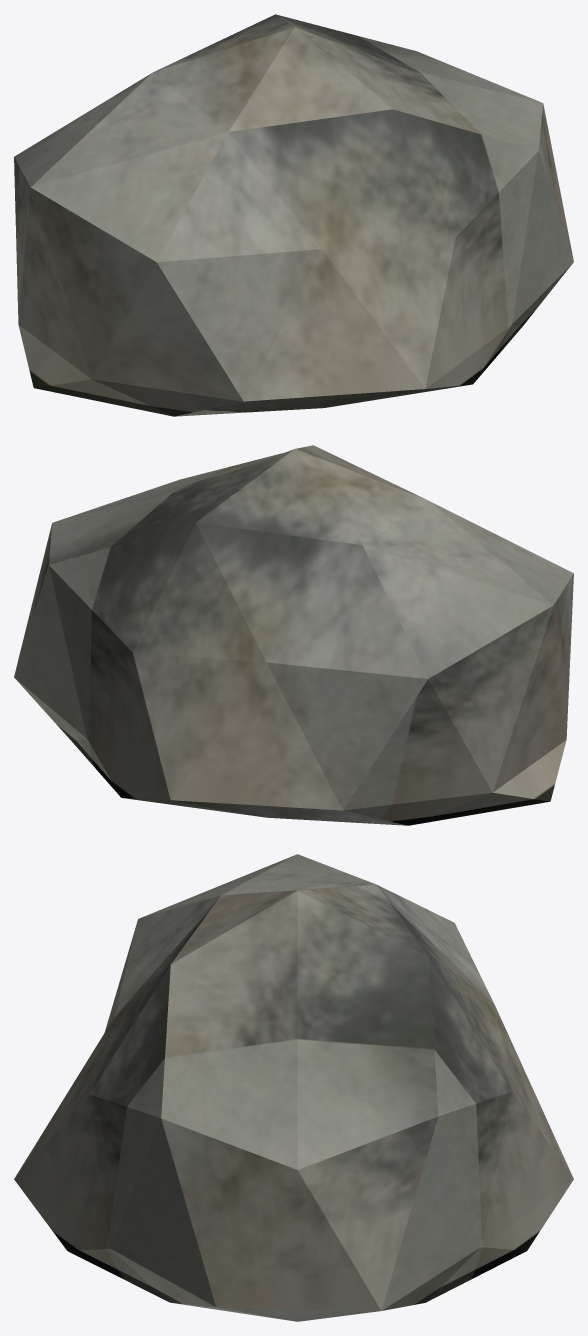
File: terrain4_rock_3.glb
The picture shows the model from 3 angles, top to bottom: view 1: azimuth 30°, elevation 25°; view 2: azimuth 150°, elevation 25°; view 3: azimuth 270°, elevation 25°; orthographic projection. The views are drawn at different scales.
Visible parts, largest first — view 1: terrain4_rock_3.glb; view 2: terrain4_rock_3.glb; view 3: terrain4_rock_3.glb.
Part boxes in pixels (left/top/right/bottom): terrain4_rock_3.glb: left=14, top=14, right=573, bottom=416; terrain4_rock_3.glb: left=14, top=445, right=573, bottom=825; terrain4_rock_3.glb: left=14, top=854, right=573, bottom=1321.
Bounding box in the file's own units: 4.82 × 2.67 × 4.2.
Materials: 1 (1 with a texture image).
